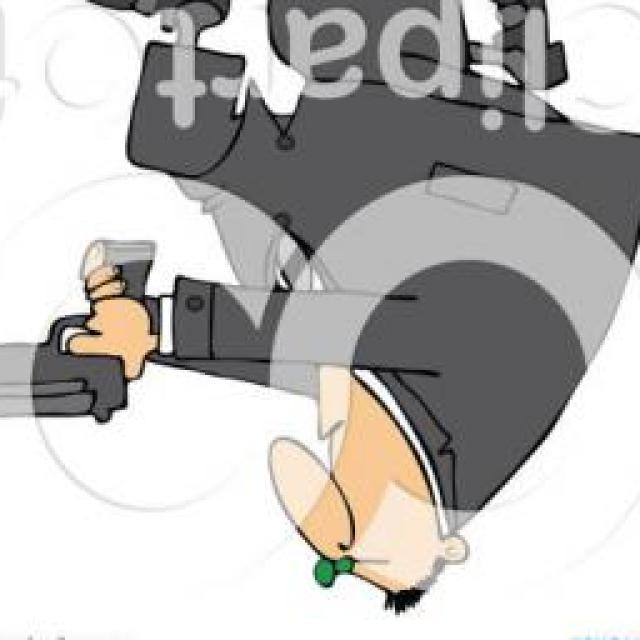pistol: (0, 240, 155, 435)
